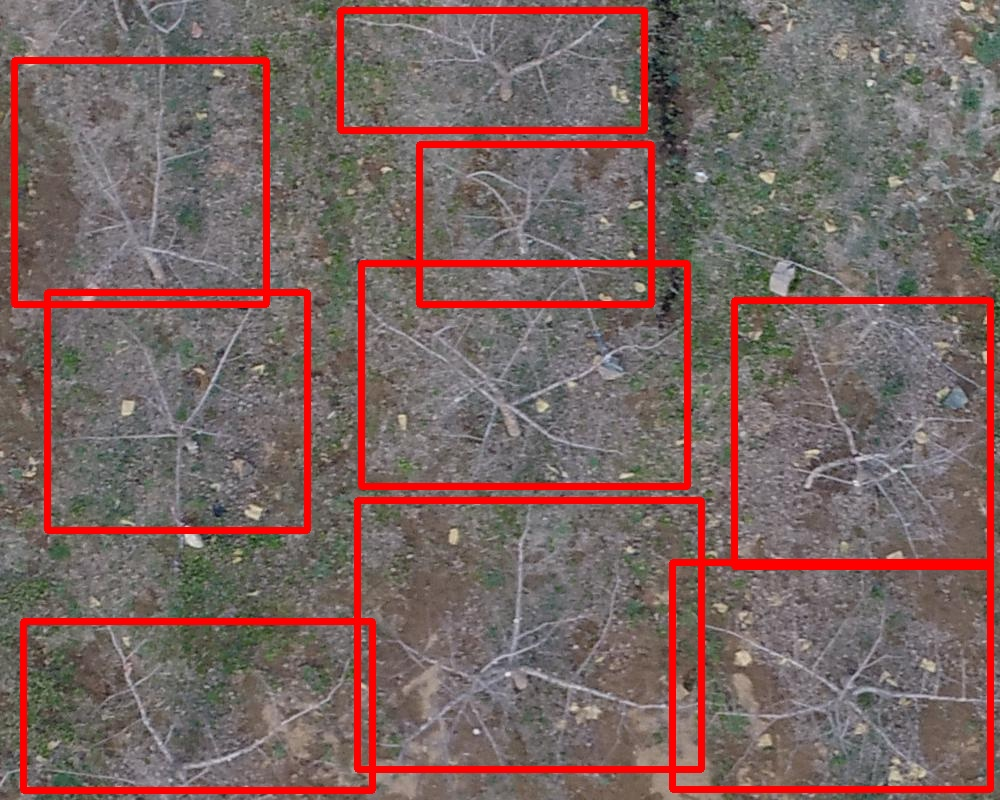apple: (357, 500, 701, 769), (361, 263, 687, 486), (672, 562, 990, 789), (734, 300, 990, 566), (47, 292, 307, 530), (14, 60, 266, 304), (23, 621, 372, 790), (419, 144, 651, 304), (340, 10, 644, 130)
